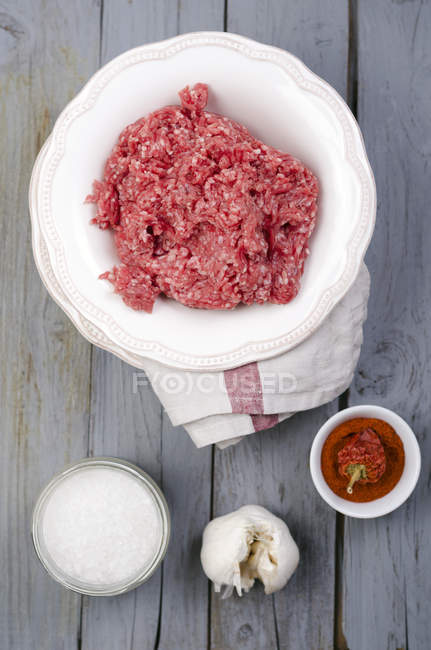ground_beef: (108, 109, 333, 328)
